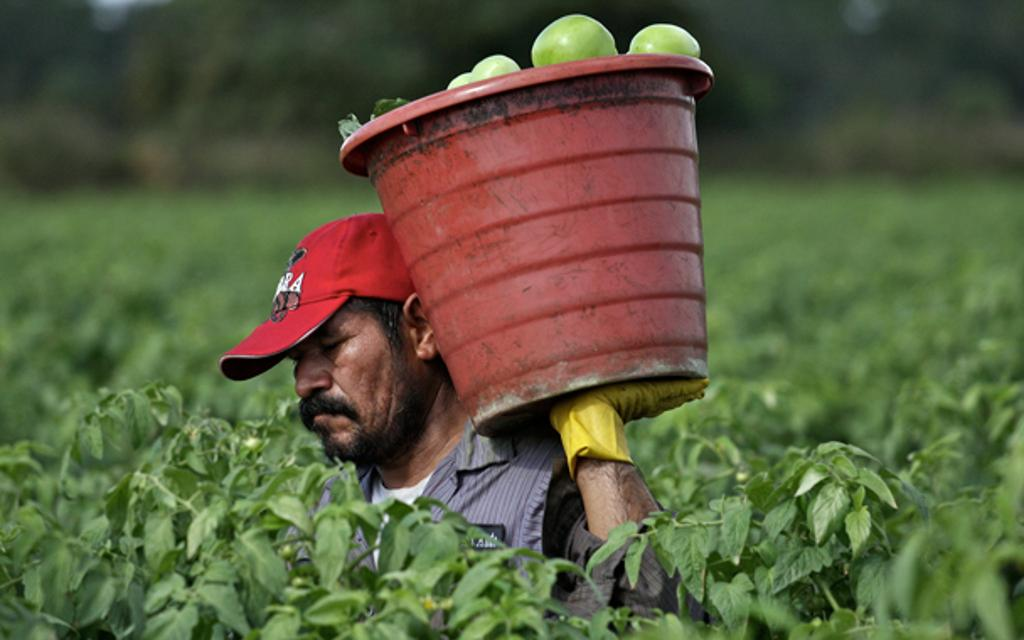face: (294, 260, 428, 452)
